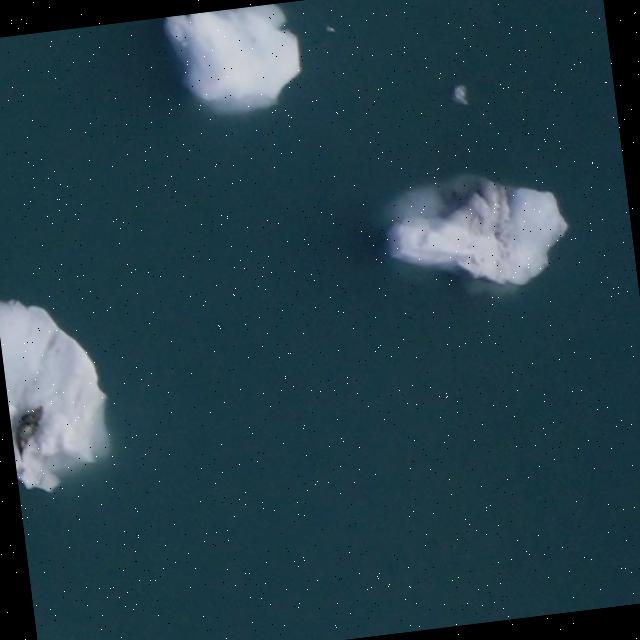seal: (14, 409, 42, 456)
